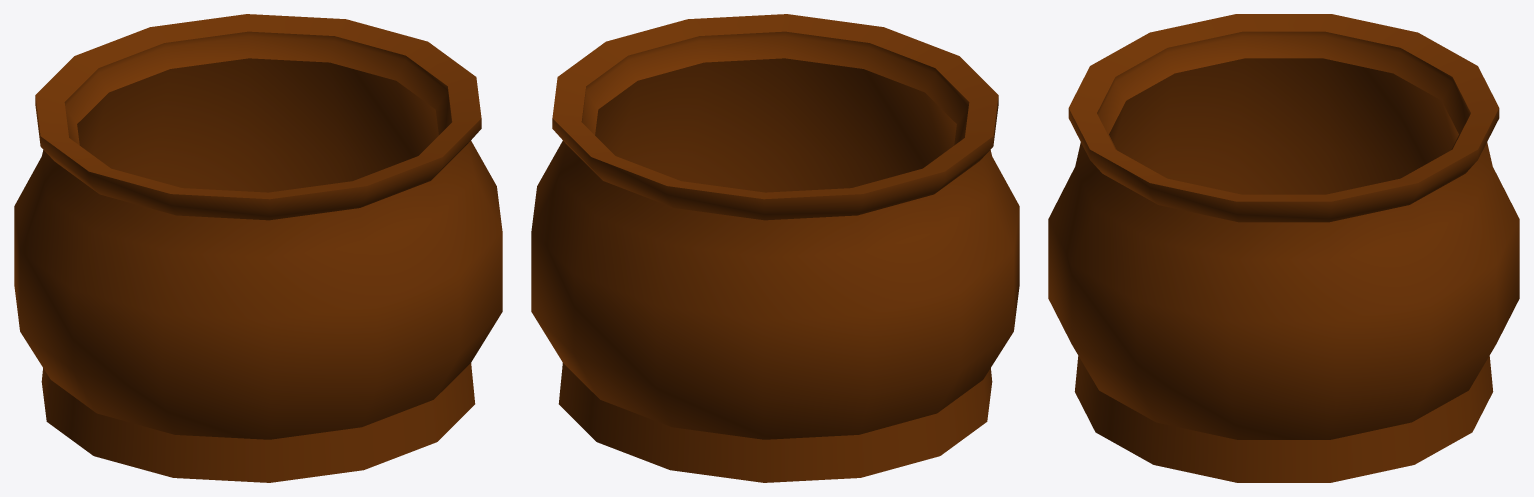
File: Jarron_Bueno.fbx
3 renders of one model, left to right at view 1: azimuth 30°, elevation 25°; view 2: azimuth 150°, elevation 25°; view 3: azimuth 270°, elevation 25°, orthographic.
Parts seen in each view (by area): view 1: Object026; view 2: Object026; view 3: Object026.
Boxes of the visible parts, left/top/right/bottom form: Object026: left=14, top=14, right=502, bottom=482; Object026: left=531, top=14, right=1019, bottom=482; Object026: left=1048, top=14, right=1519, bottom=482.
Bounding box in the file's own units: 23.22 × 14.99 × 22.53.
